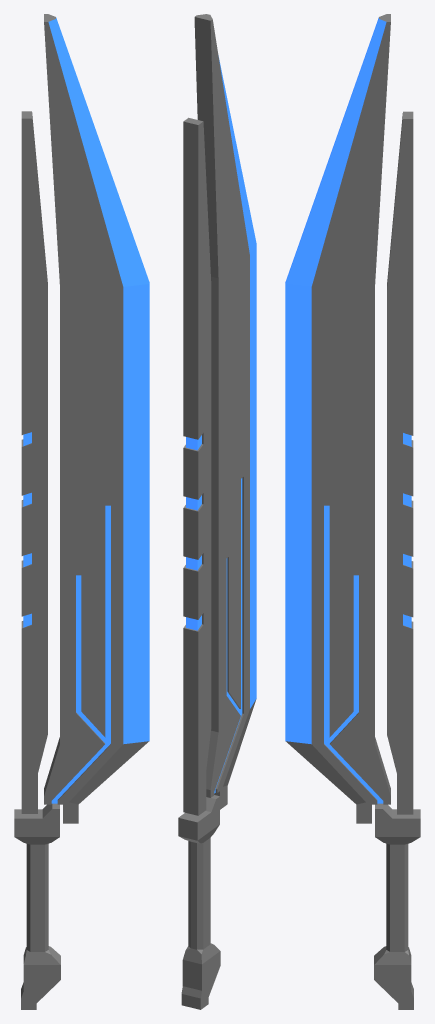
The model's file is Geoblade.fbx.
3 views of the same model, side by side, from view 1: azimuth 90°, elevation 25°; view 2: azimuth 150°, elevation 25°; view 3: azimuth 270°, elevation 25° (orthographic).
Visible parts, largest first — view 1: Blade_Baked, Blunt_Baked, Handle; view 2: Blade_Baked, Blunt_Baked, Handle; view 3: Blade_Baked, Blunt_Baked, Handle.
Boxes of the visible parts, <box> form: Blade_Baked: <box>44,14,149,823</box>; Blunt_Baked: <box>21,111,47,813</box>; Handle: <box>14,803,60,1009</box>; Blade_Baked: <box>194,14,256,809</box>; Blunt_Baked: <box>183,117,211,815</box>; Handle: <box>178,795,220,1009</box>; Blade_Baked: <box>285,14,390,823</box>; Blunt_Baked: <box>387,111,413,814</box>; Handle: <box>374,803,420,1009</box>.
Size of the model in its own units: 2.6 by 127 by 15.72.
